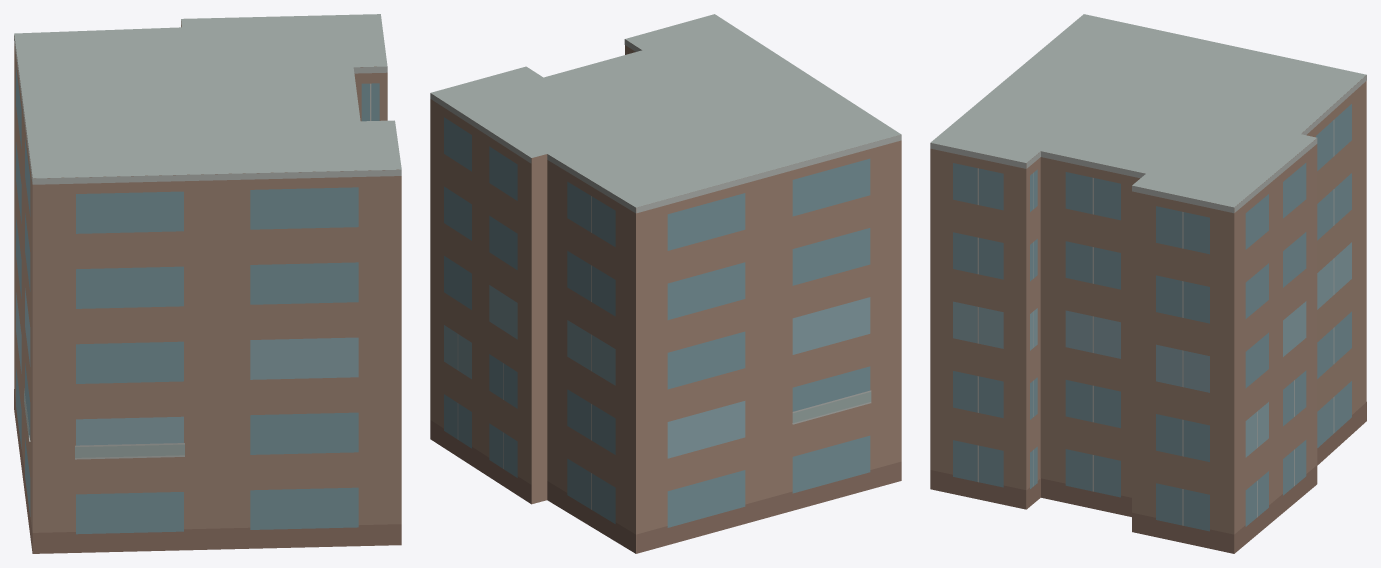
The model's file is survey-upis-32891969.glb.
The picture shows the model from 3 angles, left to right: view 1: azimuth 30°, elevation 25°; view 2: azimuth 150°, elevation 25°; view 3: azimuth 270°, elevation 25°; orthographic projection. The views are drawn at different scales.
Parts seen in each view (by area): view 1: survey-upis-32891969.tmp; view 2: survey-upis-32891969.tmp; view 3: survey-upis-32891969.tmp.
Boxes of the visible parts, x1=… form: survey-upis-32891969.tmp: x1=14, y1=14, x2=401, y2=553; survey-upis-32891969.tmp: x1=430, y1=14, x2=901, y2=553; survey-upis-32891969.tmp: x1=930, y1=14, x2=1366, y2=553.
Size of the model in its own units: 17.38 by 14.5 by 16.57.
